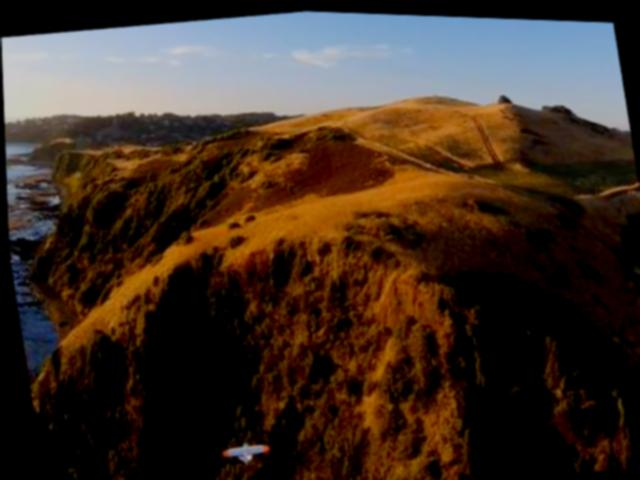uav: (215, 432, 270, 468)
